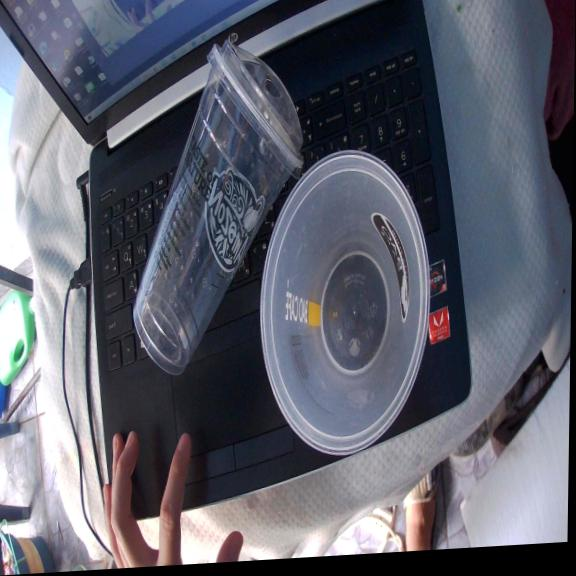Plastik: (134, 41, 302, 374), (261, 151, 429, 454)
